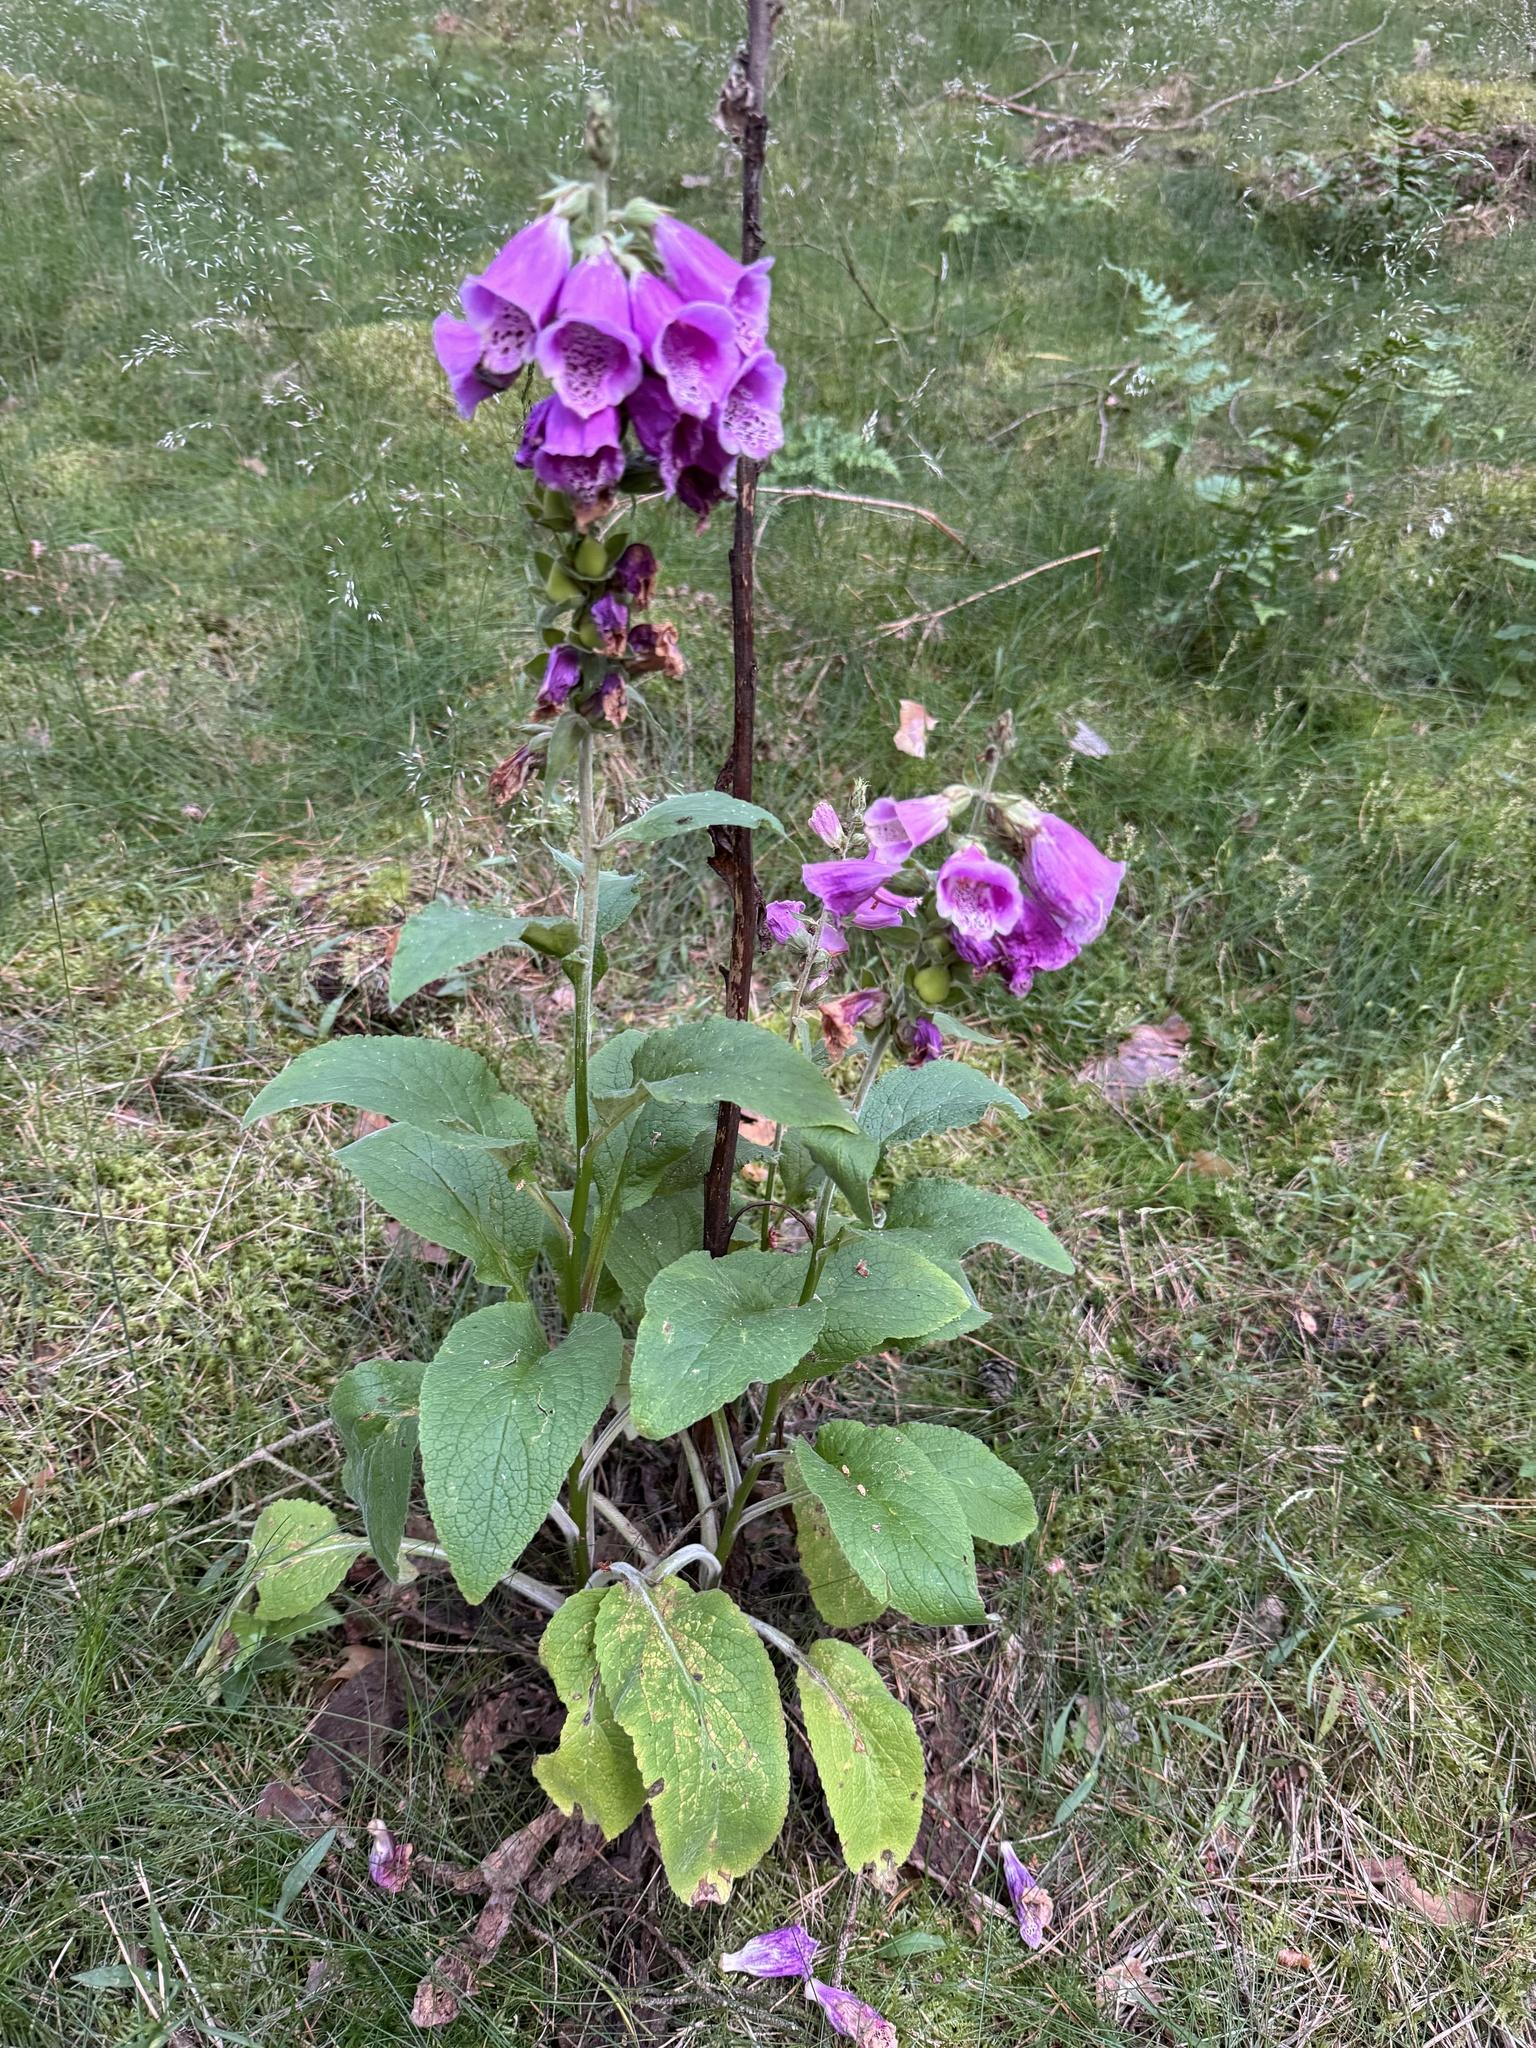Digitalis L: (278, 126, 1087, 1842)
